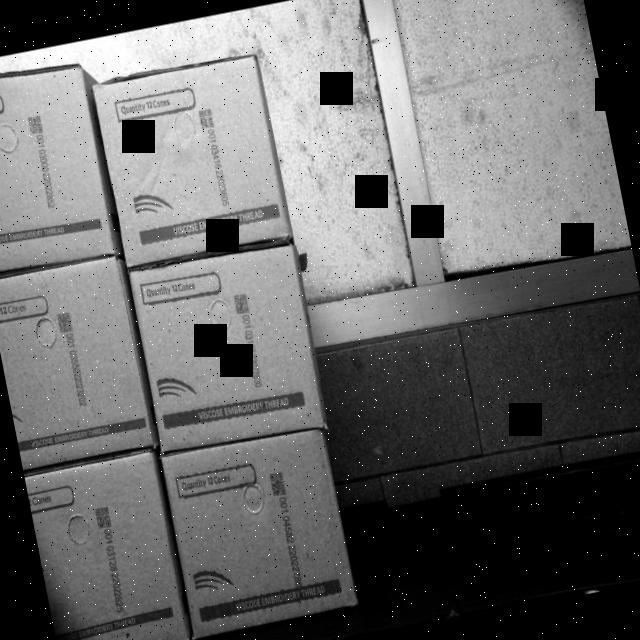box: (90, 51, 296, 276), (125, 237, 328, 460), (160, 424, 358, 638), (0, 254, 155, 472), (24, 450, 192, 640), (0, 54, 121, 286)
